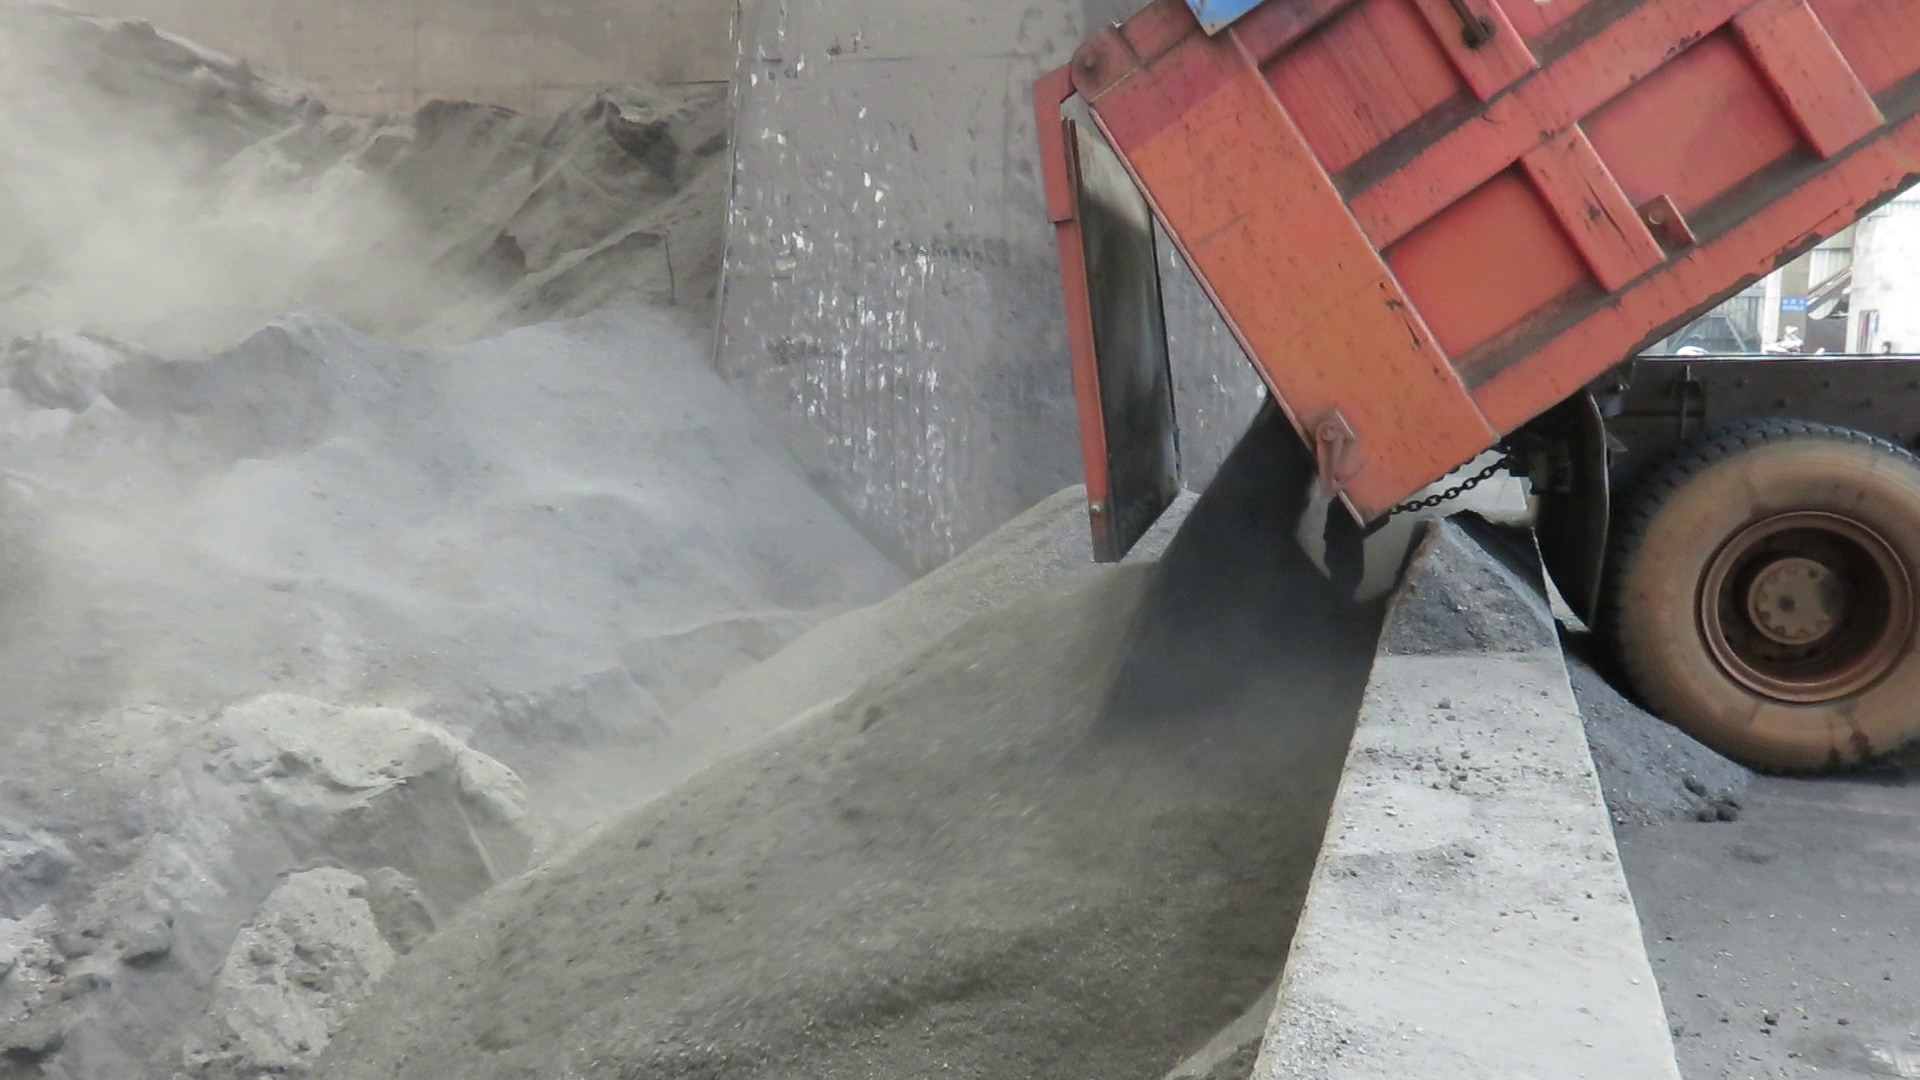dust: (5, 16, 1015, 909)
truck: (1031, 0, 1920, 793)
